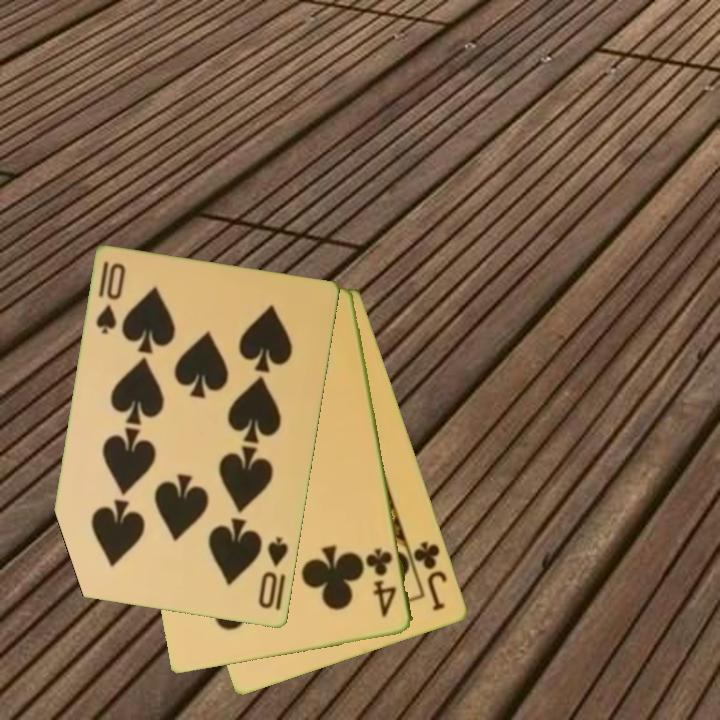10s: (93, 258, 129, 338), (255, 534, 291, 612)
4c: (363, 544, 400, 620)
Jc: (410, 538, 451, 614)
